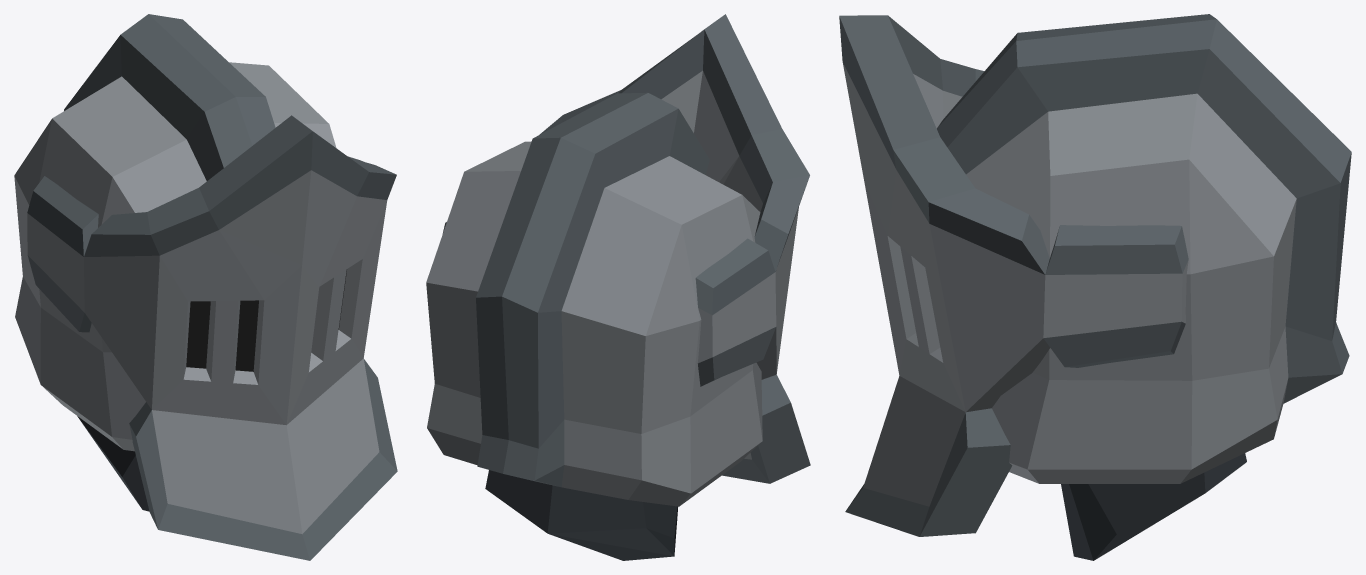
The model's file is Chr_Head_No_Elements_Female_05_Static.fbx.
3 renders of one model, left to right at view 1: azimuth 30°, elevation 25°; view 2: azimuth 150°, elevation 25°; view 3: azimuth 270°, elevation 25°, orthographic. The views are drawn at different scales.
Visible parts, largest first — view 1: Chr_Head_No_Elements_Female_05_Static; view 2: Chr_Head_No_Elements_Female_05_Static; view 3: Chr_Head_No_Elements_Female_05_Static.
Part boxes in pixels (x1,y1,x2,y2): Chr_Head_No_Elements_Female_05_Static: (14,14,397,560); Chr_Head_No_Elements_Female_05_Static: (426,14,810,560); Chr_Head_No_Elements_Female_05_Static: (839,14,1351,560).
Bounding box in the file's own units: 0.2598 × 0.4116 × 0.3533.
